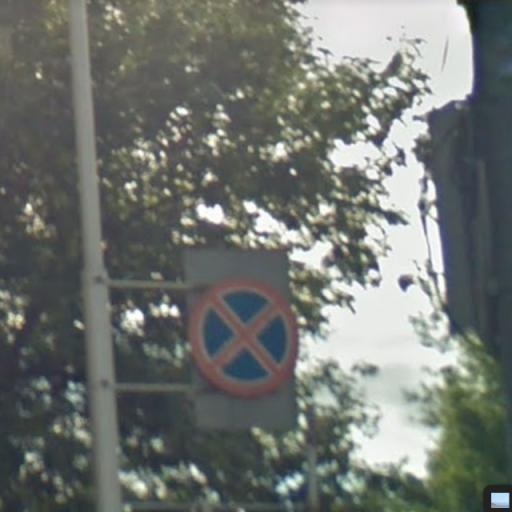traffic_sign: (184, 276, 308, 407)
